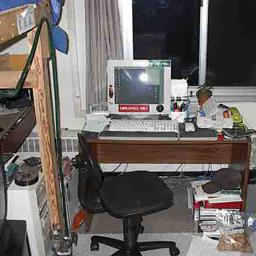Ventana: (133, 4, 253, 97)
